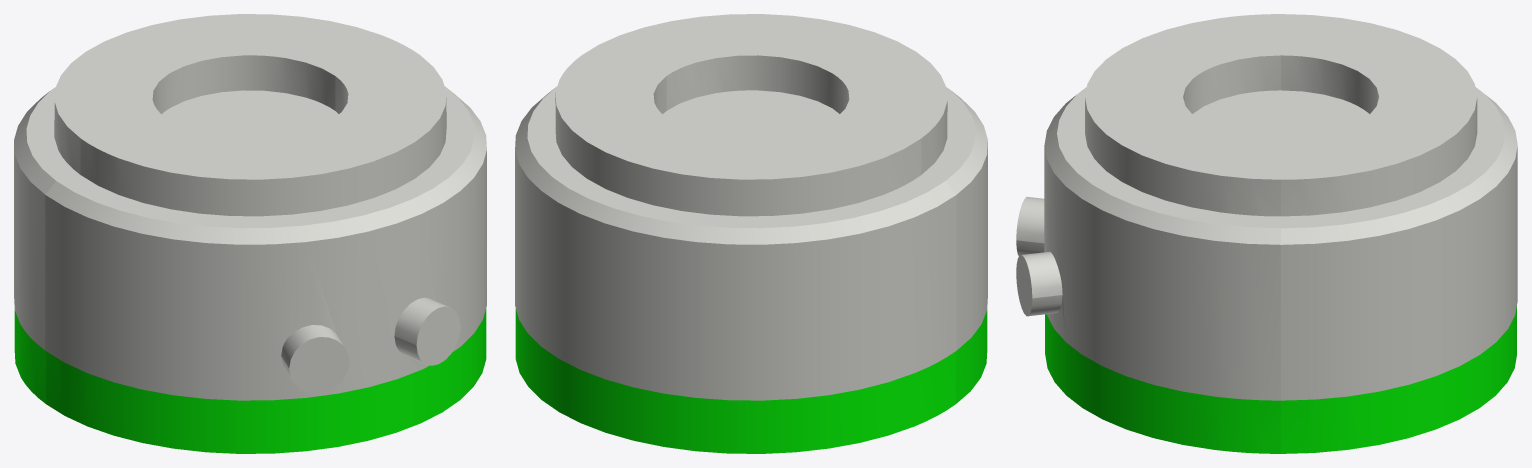
3 views of the same model, side by side, from view 1: azimuth 30°, elevation 25°; view 2: azimuth 150°, elevation 25°; view 3: azimuth 270°, elevation 25° (orthographic).
Parts seen in each view (by area): view 1: link6.001; view 2: link6.001; view 3: link6.001.
Part boxes in pixels (box(x1,y1,x2,y2)): link6.001: box(14, 14, 486, 453); link6.001: box(515, 14, 987, 453); link6.001: box(1016, 14, 1517, 453).
Bounding box in the file's own units: 0.076 × 0.0805 × 0.0456.
